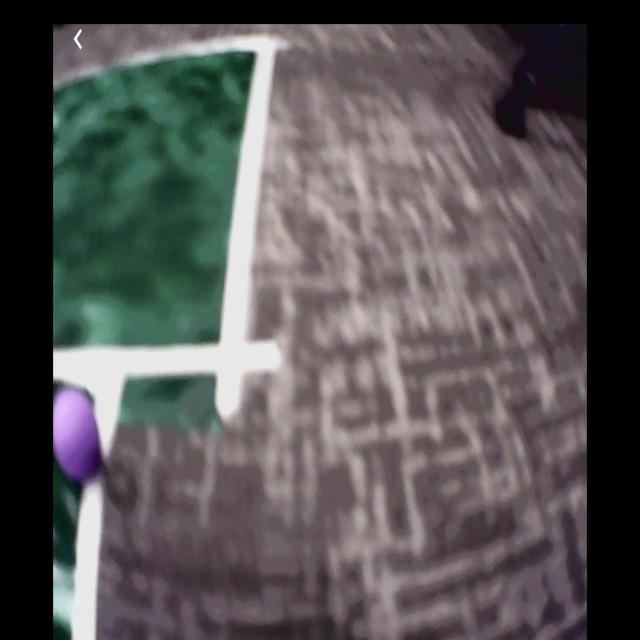ball: (54, 381, 105, 484)
